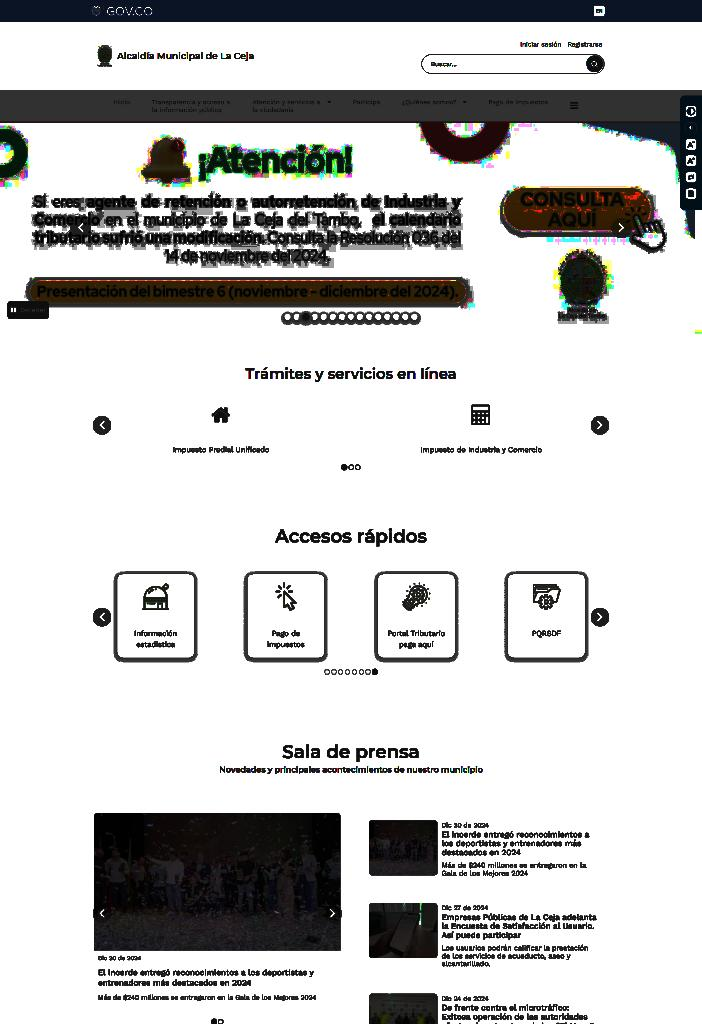banner principal: (0, 118, 702, 324)
barra accesibilidad: (680, 96, 702, 210)
barra govco: (89, 0, 607, 24)
btn atencion ciudadano: (251, 98, 333, 114)
btn buscador: (420, 52, 608, 74)
btn idiomas: (594, 5, 606, 17)
btn inicio: (112, 98, 132, 106)
btn inicio sesion: (520, 38, 562, 50)
btn participa: (352, 98, 386, 108)
btn quienes somos: (400, 98, 468, 106)
btn registro: (566, 40, 604, 48)
btn sala prensa: (282, 742, 422, 764)
btn tramites: (242, 365, 459, 383)
btn transpariencia: (151, 98, 233, 114)
logogovco: (90, 4, 154, 20)
menu principal: (110, 88, 582, 116)
